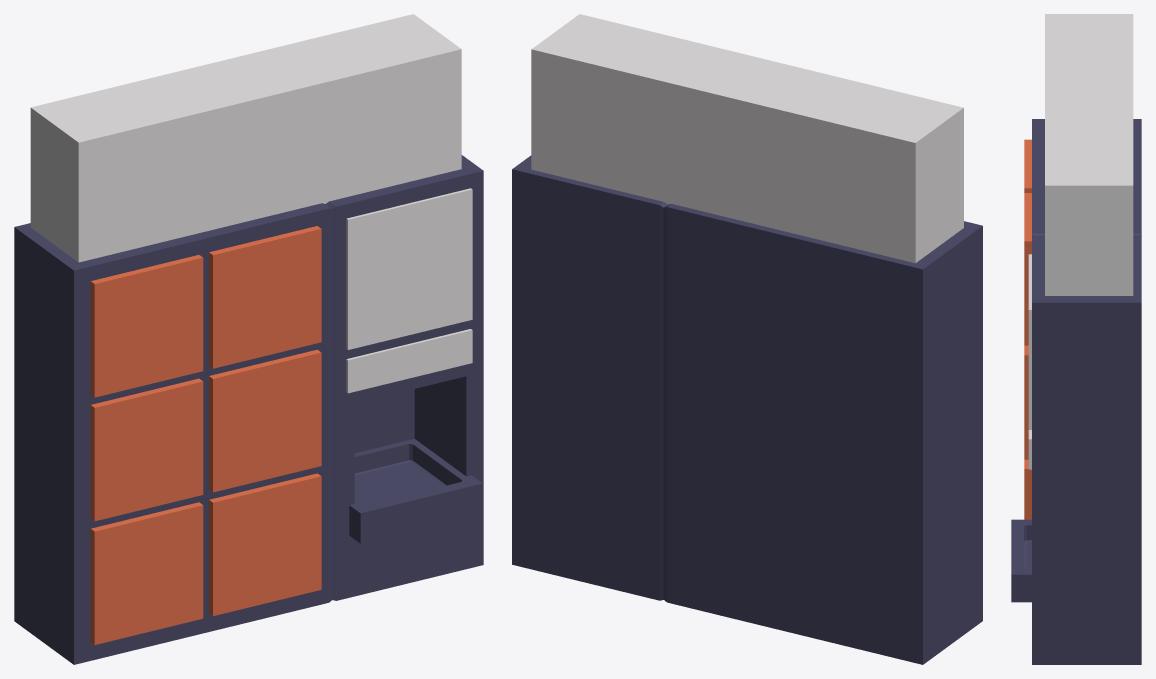
Rendered from vending-machine.dae.
3 renders of one model, left to right at view 1: azimuth 30°, elevation 25°; view 2: azimuth 150°, elevation 25°; view 3: azimuth 270°, elevation 25°, orthographic. The views are drawn at different scales.
Parts seen in each view (by area): view 1: Cube, Cube_007, Cube_008, Cube_004, Cube_001, Cube_005, Cube_002, Cube_003, Cube_006, Cube_009, Cube_010; view 2: Cube, Cube_007; view 3: Cube, Cube_007, Cube_009, Cube_002, Cube_008, Cube_003, Cube_006, Cube_001.
Boxes of the visible parts, x1,y1,x2,y2 form: Cube: (14,155,483,664); Cube_007: (30,14,461,262); Cube_008: (346,188,472,349); Cube_004: (90,378,203,521); Cube_001: (90,255,203,397); Cube_005: (90,502,203,644); Cube_002: (209,226,321,368); Cube_003: (209,349,321,492); Cube_006: (209,473,321,616); Cube_009: (349,439,482,543); Cube_010: (346,329,472,393); Cube: (512,155,982,664); Cube_007: (531,14,963,263); Cube: (1032,119,1141,664); Cube_007: (1045,14,1133,295); Cube_009: (1011,519,1031,602); Cube_002: (1024,193,1031,345); Cube_008: (1028,254,1031,429); Cube_003: (1024,345,1028,459); Cube_006: (1024,459,1031,519); Cube_001: (1024,139,1031,192).
Size of the model in its own units: 3.99 by 1.19 by 4.79.
